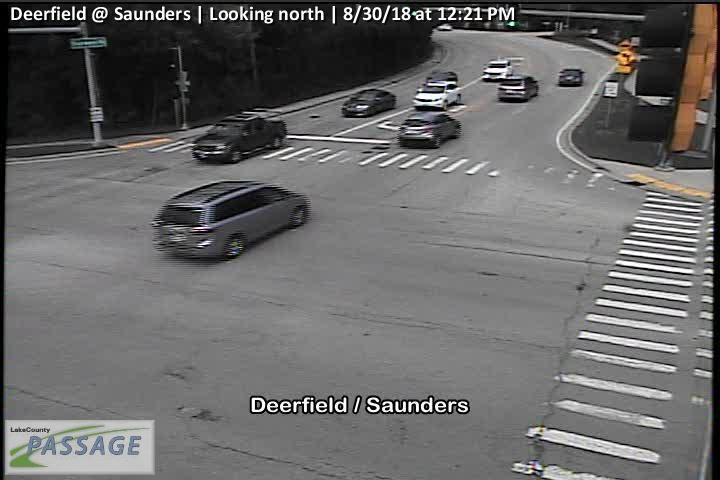SUV: (153, 181, 309, 258), (398, 111, 460, 149)
Sedan: (340, 88, 396, 117), (413, 80, 462, 111), (498, 74, 539, 102), (483, 59, 513, 80), (558, 69, 585, 86), (425, 72, 458, 84)
Truck: (192, 115, 287, 165)
